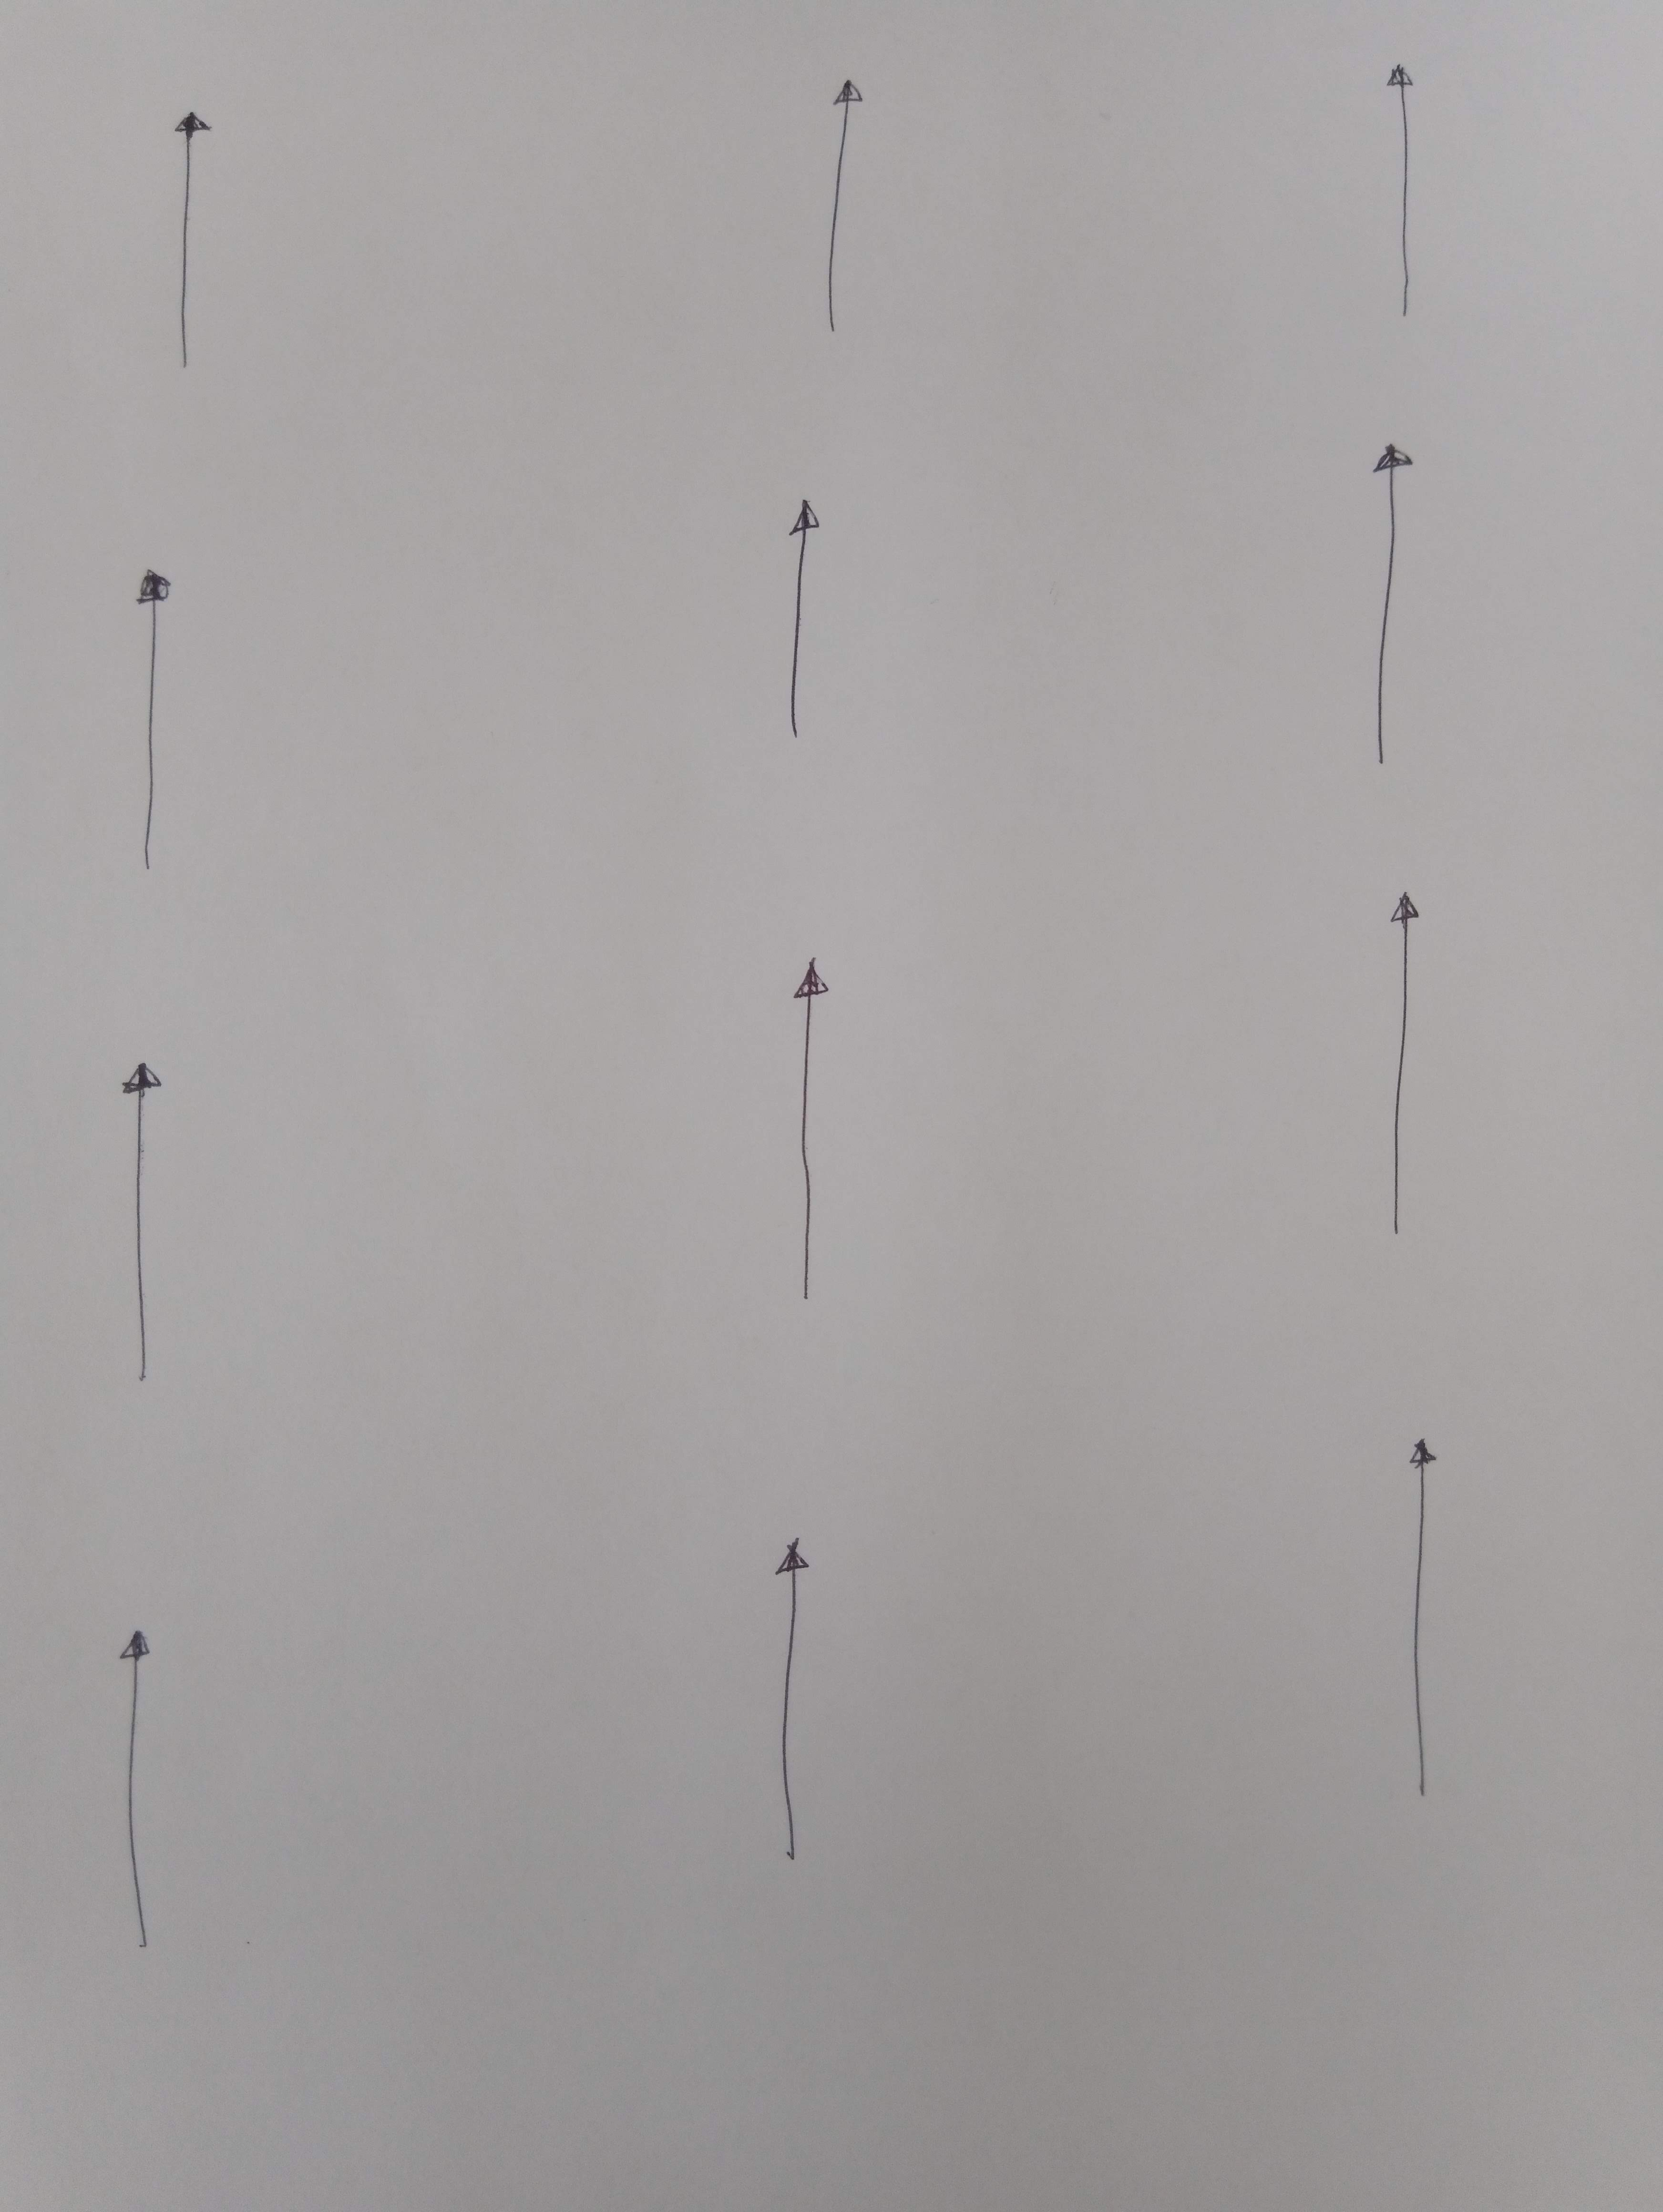arrow_line_up: (77, 1592, 215, 1976), (1375, 1426, 1487, 1779), (1352, 431, 1457, 751), (762, 1522, 851, 1879), (152, 82, 257, 384), (774, 946, 859, 1309), (1359, 887, 1448, 1224), (103, 1046, 185, 1388), (1340, 51, 1436, 314), (804, 58, 889, 340), (110, 566, 189, 871), (767, 470, 835, 740)
